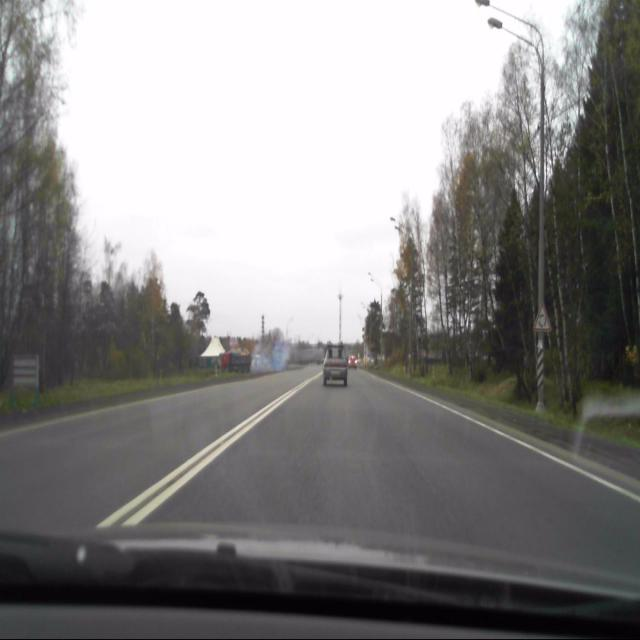road sign: (531, 299, 555, 334)
